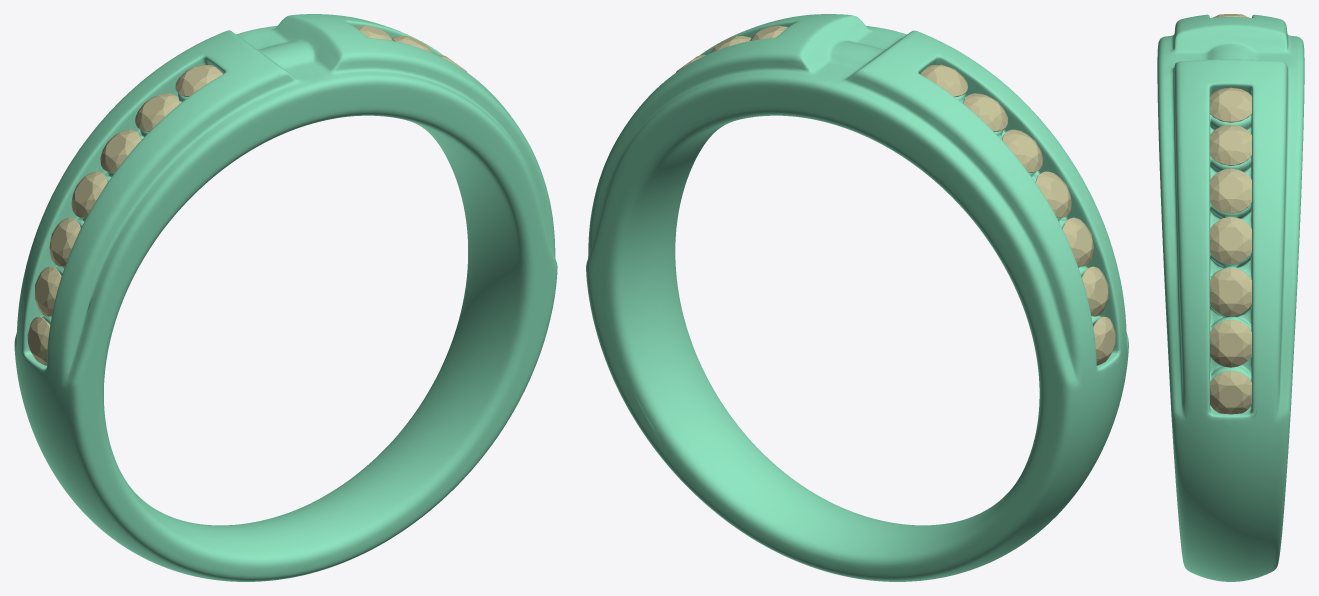
3 views of the same model, side by side, from view 1: azimuth 30°, elevation 25°; view 2: azimuth 150°, elevation 25°; view 3: azimuth 270°, elevation 25° (orthographic). The views are drawn at different scales.
Visible parts, largest first — view 1: Metal02, Diamond_Gem.010, Diamond_Gem.011, Diamond_Gem.012, Diamond_Gem.009, Diamond_Gem.008, Diamond_Gem.013, Diamond_Gem.007; view 2: Metal02, Diamond_Gem.010, Diamond_Gem.011, Diamond_Gem.009, Diamond_Gem.012, Diamond_Gem.008, Diamond_Gem.013, Diamond_Gem.007; view 3: Metal02, Diamond_Gem.004, Diamond_Gem.005, Diamond_Gem.003, Diamond_Gem.002, Diamond_Gem.006, Diamond_Gem.001, Diamond_Gem.
Boxes of the visible parts, box(x1,y1,x2,y2) form: Metal02: box(14, 14, 557, 581); Diamond_Gem.010: box(71, 171, 107, 218); Diamond_Gem.011: box(100, 129, 141, 172); Diamond_Gem.012: box(135, 93, 179, 131); Diamond_Gem.009: box(49, 217, 80, 266); Diamond_Gem.008: box(35, 266, 61, 316); Diamond_Gem.013: box(175, 64, 222, 96); Diamond_Gem.007: box(27, 316, 50, 365); Metal02: box(586, 14, 1128, 581); Diamond_Gem.010: box(1035, 171, 1071, 218); Diamond_Gem.011: box(1002, 129, 1042, 172); Diamond_Gem.009: box(1062, 217, 1093, 266); Diamond_Gem.012: box(963, 93, 1007, 131); Diamond_Gem.008: box(1081, 266, 1108, 316); Diamond_Gem.013: box(920, 64, 967, 96); Diamond_Gem.007: box(1093, 316, 1115, 365); Metal02: box(1157, 14, 1304, 581); Diamond_Gem.004: box(1210, 268, 1251, 316); Diamond_Gem.005: box(1210, 320, 1251, 367); Diamond_Gem.003: box(1210, 217, 1251, 264); Diamond_Gem.002: box(1210, 168, 1251, 213); Diamond_Gem.006: box(1210, 371, 1251, 414); Diamond_Gem.001: box(1210, 124, 1251, 165); Diamond_Gem: box(1210, 87, 1251, 122).
Bounding box in the file's own units: 21.69 × 21.77 × 5.66.
